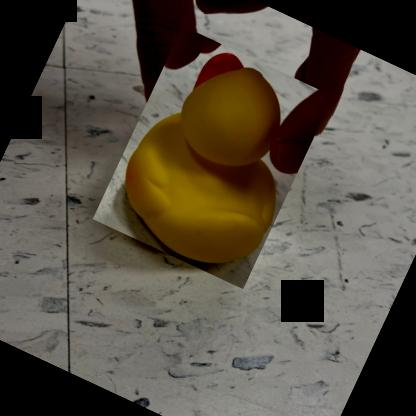duck: (92, 26, 333, 290)
